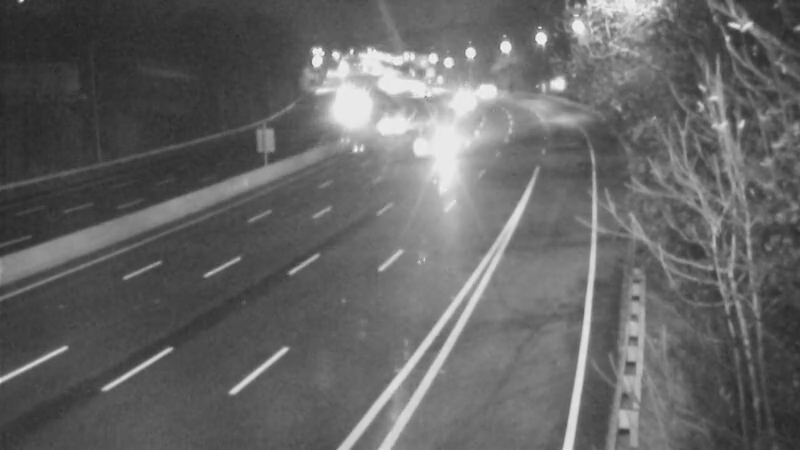vehicle: (462, 62, 512, 112), (440, 79, 490, 129), (378, 100, 428, 150), (416, 118, 466, 168), (317, 82, 367, 132)
